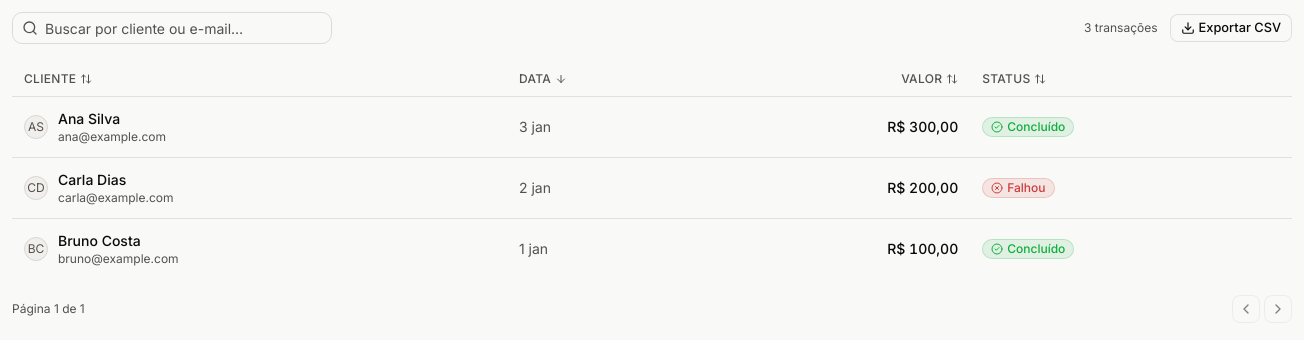
TransactionsTable › filters by customer name
In the field named "Buscar transações": (172,28) [12,12,332,44], type "bruno"
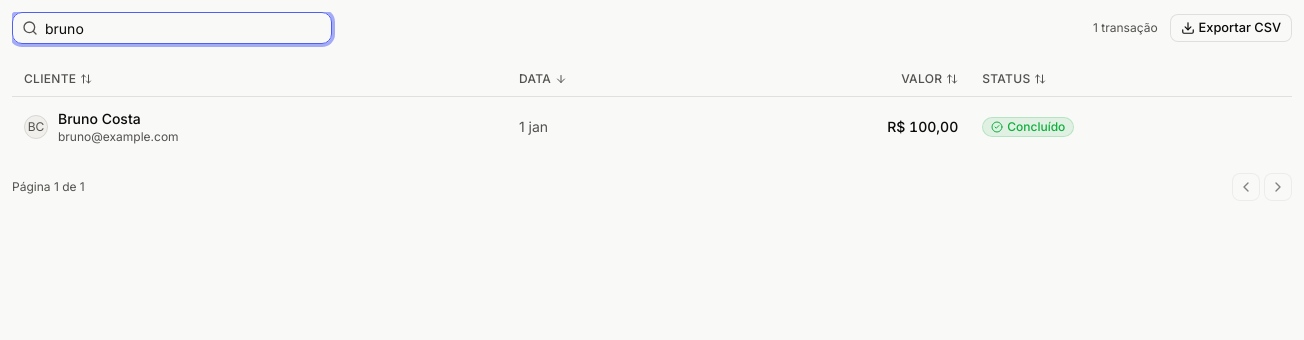
Expected: the text "Bruno Costa" is shown, [58,110,141,127]
Now the text "1 transação" is shown, box [1093,20,1158,36]
Now the text "Ana Silva" is gone
